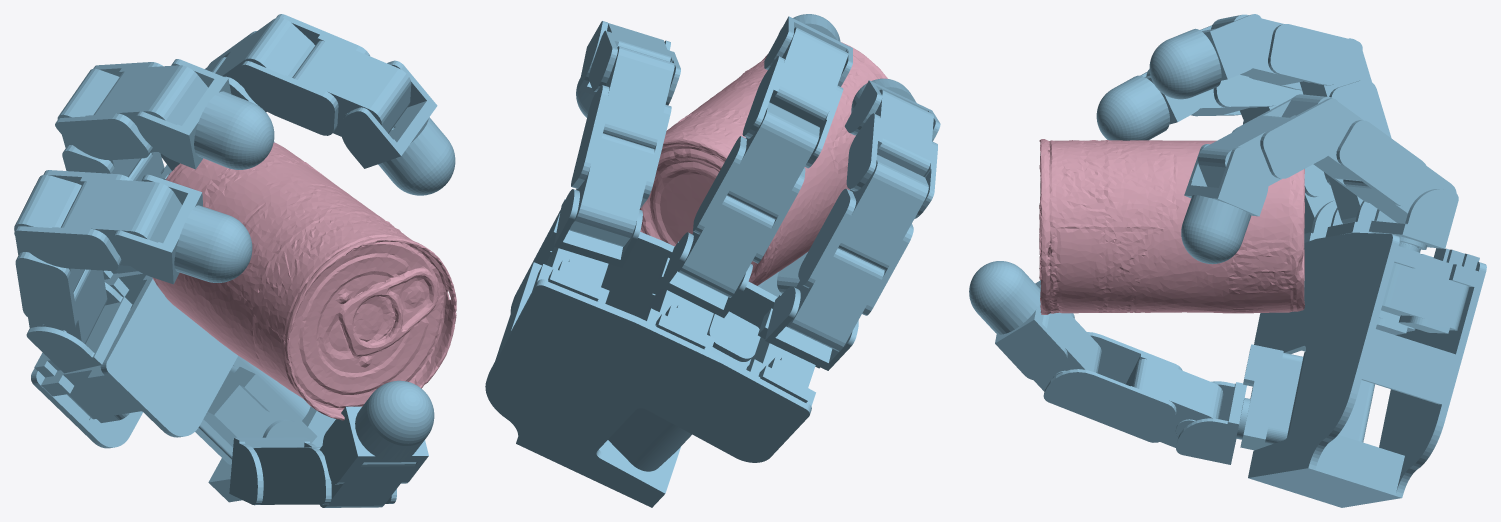
The picture shows the model from 3 angles, left to right: view 1: azimuth 30°, elevation 25°; view 2: azimuth 150°, elevation 25°; view 3: azimuth 270°, elevation 25°; orthographic projection. The views are drawn at different scales.
Visible parts, largest first — view 1: world, tomato_soup_can.stl; view 2: world, tomato_soup_can.stl; view 3: world, tomato_soup_can.stl.
Part boxes in pixels (x1,y1,x2,y2): world: (14, 14, 455, 507); tomato_soup_can.stl: (152, 142, 456, 420); world: (485, 14, 940, 507); tomato_soup_can.stl: (639, 42, 887, 285); world: (969, 14, 1486, 507); tomato_soup_can.stl: (1039, 139, 1304, 314).
Size of the model in its own units: 0.162 by 0.1906 by 0.1984.
